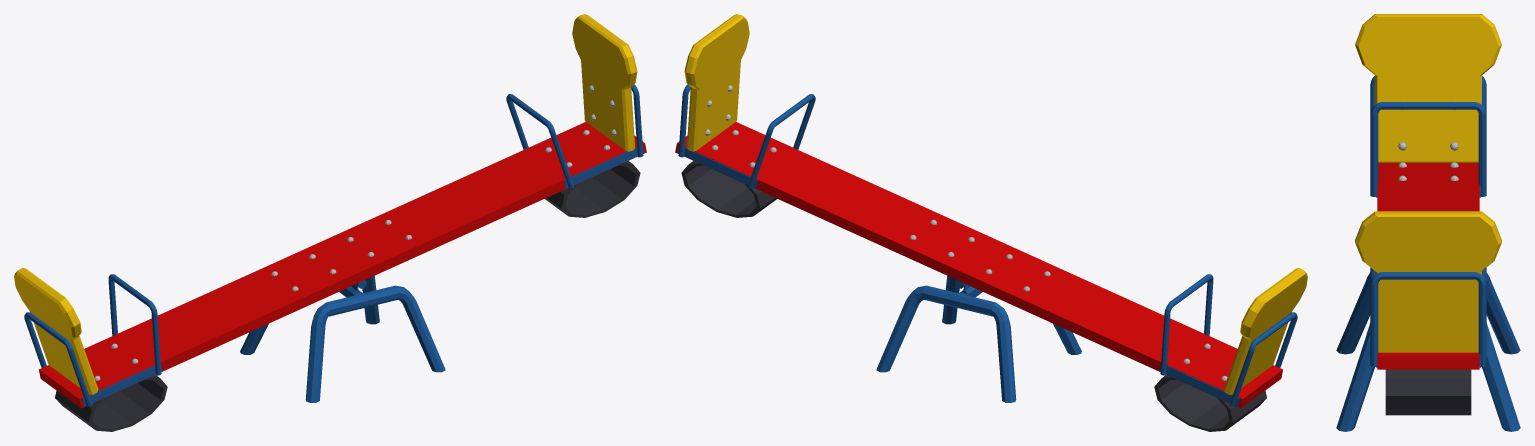
File: seasaw.gltf
3 views of the same model, side by side, from view 1: azimuth 30°, elevation 25°; view 2: azimuth 150°, elevation 25°; view 3: azimuth 270°, elevation 25° (orthographic). The views are drawn at different scales.
Parts seen in each view (by area): view 1: node-0; view 2: node-0; view 3: node-0.
Boxes of the visible parts, <box> form: node-0: <box>14,14,646,431</box>; node-0: <box>675,14,1307,431</box>; node-0: <box>1336,14,1520,431</box>.
Bounding box in the file's own units: 8.4 × 3.64 × 1.8.
